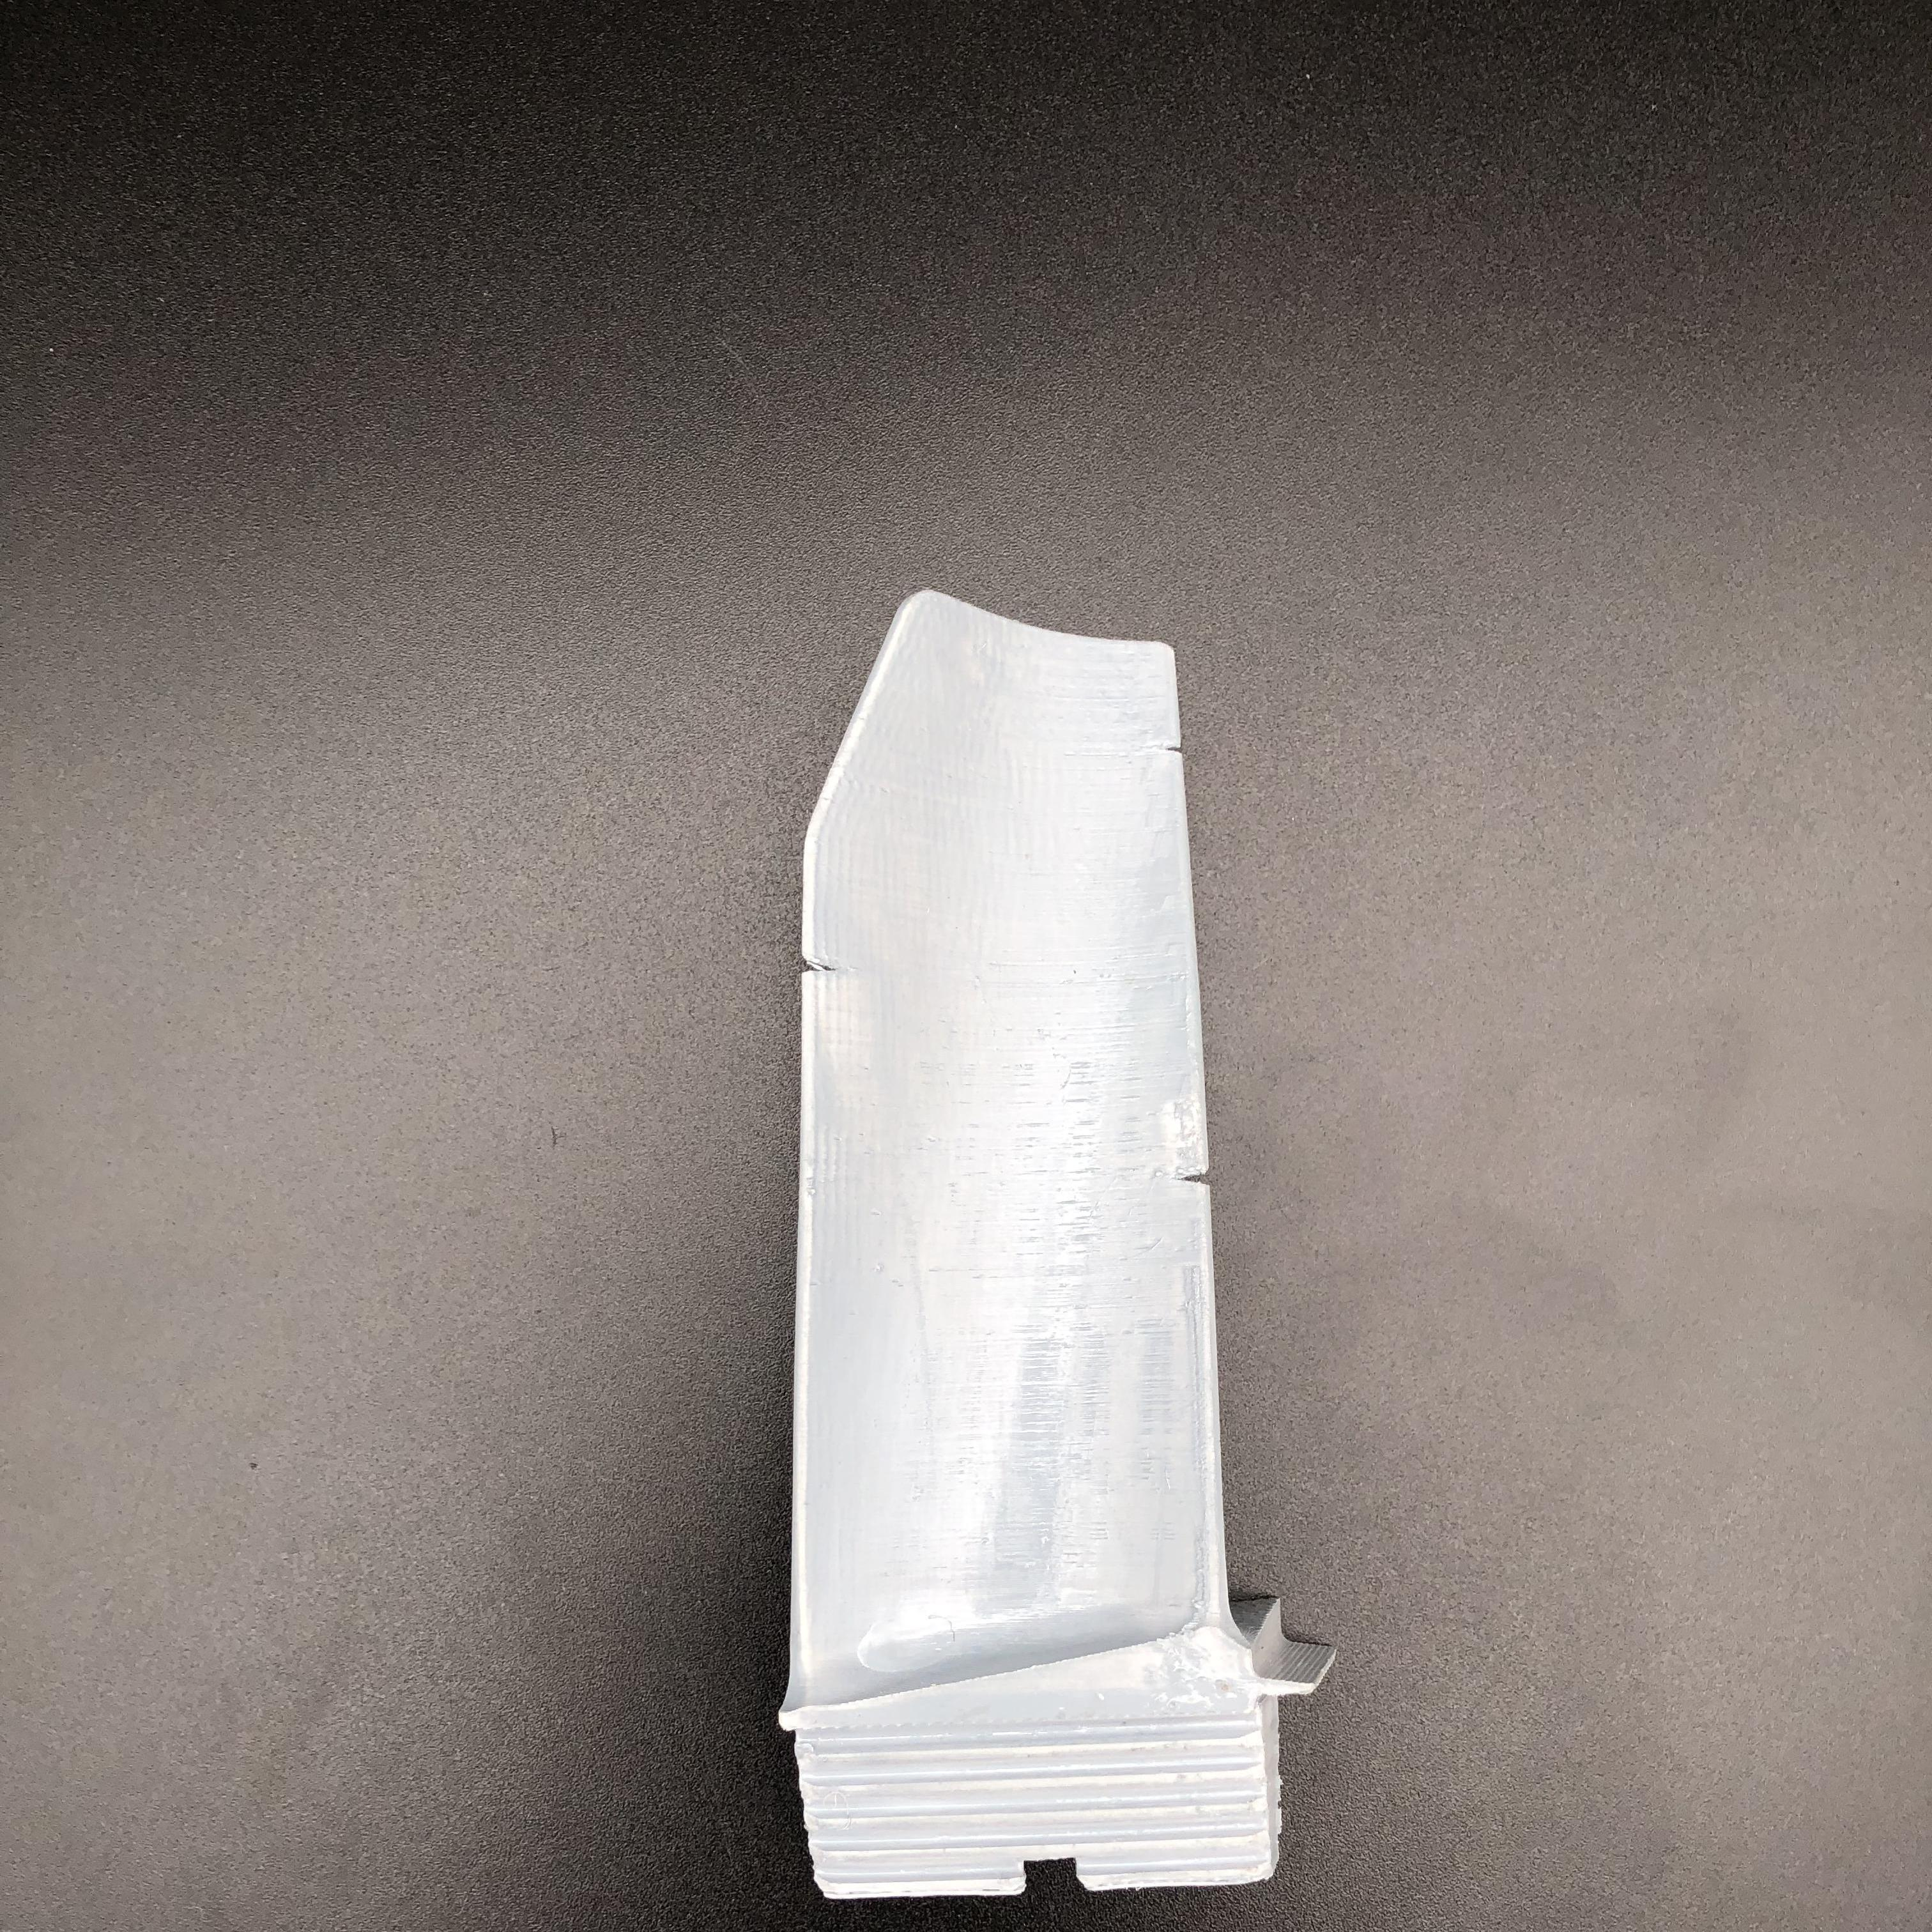groove: (1146, 731, 1207, 757), (1173, 1166, 1221, 1194), (798, 952, 847, 977)
